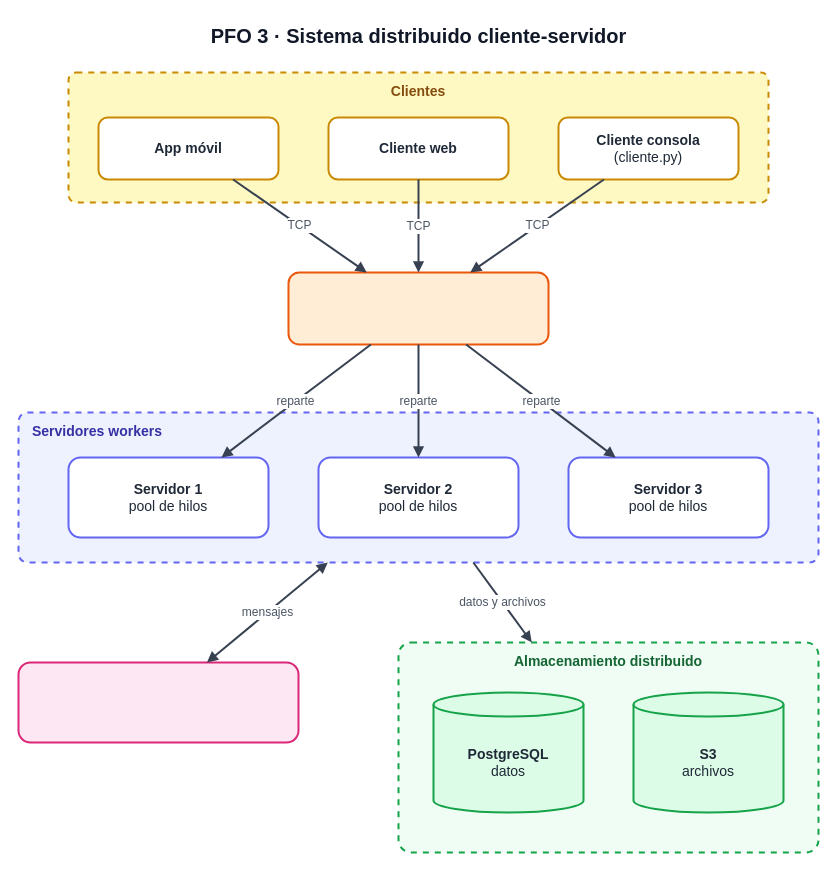
Image size: 836x870. Some labels were removed from this diagram. The centre of each missing label's shape, as x and y in pixels:
Balanceador de carga Nginx / HAProxy: (418,308)
Cola de mensajes RabbitMQ: (158,702)
